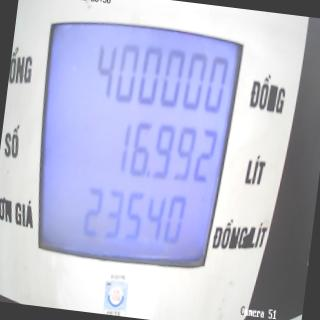screen: (19, 0, 252, 282)
